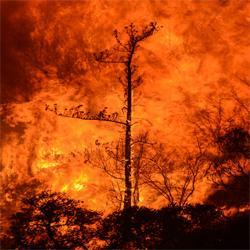fire: (138, 41, 217, 161), (31, 118, 118, 205)
